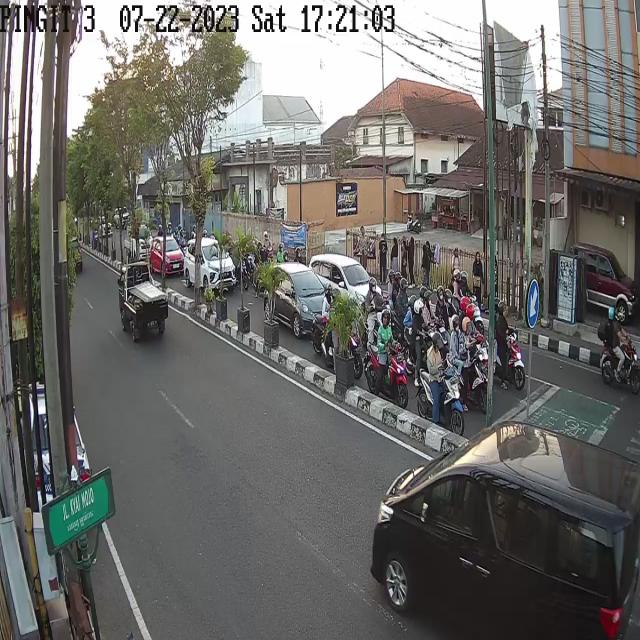car: (369, 416, 640, 636), (575, 244, 637, 324), (268, 265, 329, 337), (308, 254, 378, 307), (182, 235, 232, 291), (149, 237, 183, 275)
motorcycle: (414, 334, 462, 432), (597, 304, 639, 395), (449, 315, 490, 408), (488, 300, 530, 388), (367, 312, 408, 401), (324, 286, 359, 379), (311, 281, 342, 350)
truck: (118, 263, 171, 341), (124, 221, 153, 261)
